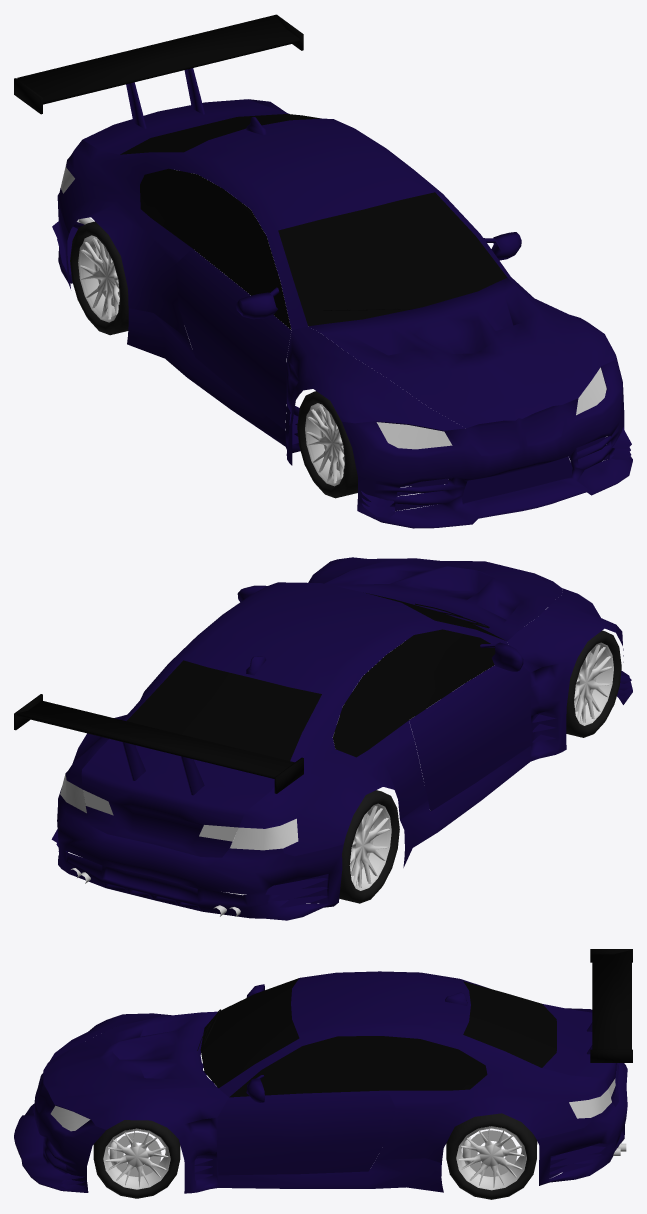
File: car.gltf
The picture shows the model from 3 angles, top to bottom: view 1: azimuth 30°, elevation 25°; view 2: azimuth 150°, elevation 25°; view 3: azimuth 270°, elevation 25°; orthographic projection. The views are drawn at different scales.
Parts seen in each view (by area): view 1: car25_polySurface38.142, car13_polySurface38.154, car21_polySurface38.146, car22_polySurface38.145, car24_polySurface38.143, car32_polySurface38.135, car33_polySurface38.134, car52_polySurface38.114, car12_polySurface38.155, car51_polySurface38.115, car28_polySurface38.139, car4_polySurface38.083 (+9 smaller); view 2: car25_polySurface38.142, car26_polySurface38.141, car28_polySurface38.139, car27_polySurface38.140, car24_polySurface38.143, car21_polySurface38.146, car32_polySurface38.135, car52_polySurface38.114, car33_polySurface38.134, car12_polySurface38.155, car81_polySurface38.000, car4_polySurface38.083 (+9 smaller); view 3: car25_polySurface38.142, car23_polySurface38.144, car31_polySurface38.136, car21_polySurface38.146, car51_polySurface38.115, car22_polySurface38.145, car11_polySurface38.156, car13_polySurface38.154, car27_polySurface38.140, car26_polySurface38.141, car33_polySurface38.134, car28_polySurface38.139 (+13 smaller).
Boxes of the visible parts, x1,y1,x2,y2 form: car25_polySurface38.142: (58, 99, 510, 339); car13_polySurface38.154: (342, 356, 632, 528); car21_polySurface38.146: (309, 278, 562, 428); car22_polySurface38.145: (278, 192, 507, 326); car24_polySurface38.143: (175, 248, 291, 430); car32_polySurface38.135: (140, 168, 291, 329); car33_polySurface38.134: (17, 15, 299, 104); car52_polySurface38.114: (286, 326, 465, 430); car12_polySurface38.155: (127, 308, 300, 465); car51_polySurface38.115: (508, 277, 616, 404); car28_polySurface38.139: (82, 99, 286, 154); car4_polySurface38.083: (70, 221, 128, 335); car25_polySurface38.142: (58, 582, 508, 856); car26_polySurface38.141: (57, 794, 343, 920); car28_polySurface38.139: (81, 739, 274, 857); car27_polySurface38.140: (126, 660, 321, 760); car24_polySurface38.143: (409, 665, 530, 811); car21_polySurface38.146: (324, 560, 562, 641); car32_polySurface38.135: (333, 629, 495, 757); car52_polySurface38.114: (507, 588, 616, 707); car33_polySurface38.134: (16, 700, 294, 778); car12_polySurface38.155: (400, 699, 567, 867); car81_polySurface38.000: (60, 773, 298, 850); car4_polySurface38.083: (339, 790, 399, 903); car25_polySurface38.142: (219, 971, 608, 1162); car23_polySurface38.144: (217, 1090, 395, 1175); car31_polySurface38.136: (229, 1036, 487, 1097); car21_polySurface38.146: (43, 1011, 217, 1097); car51_polySurface38.115: (51, 1087, 228, 1154); car22_polySurface38.145: (200, 978, 299, 1088); car11_polySurface38.156: (183, 1146, 443, 1193); car13_polySurface38.154: (14, 1026, 105, 1192); car27_polySurface38.140: (463, 981, 556, 1067); car26_polySurface38.141: (536, 1063, 627, 1185); car33_polySurface38.134: (592, 950, 631, 1049); car28_polySurface38.139: (542, 1004, 618, 1106).
Size of the model in its own units: 1.91 by 1.26 by 4.58.
